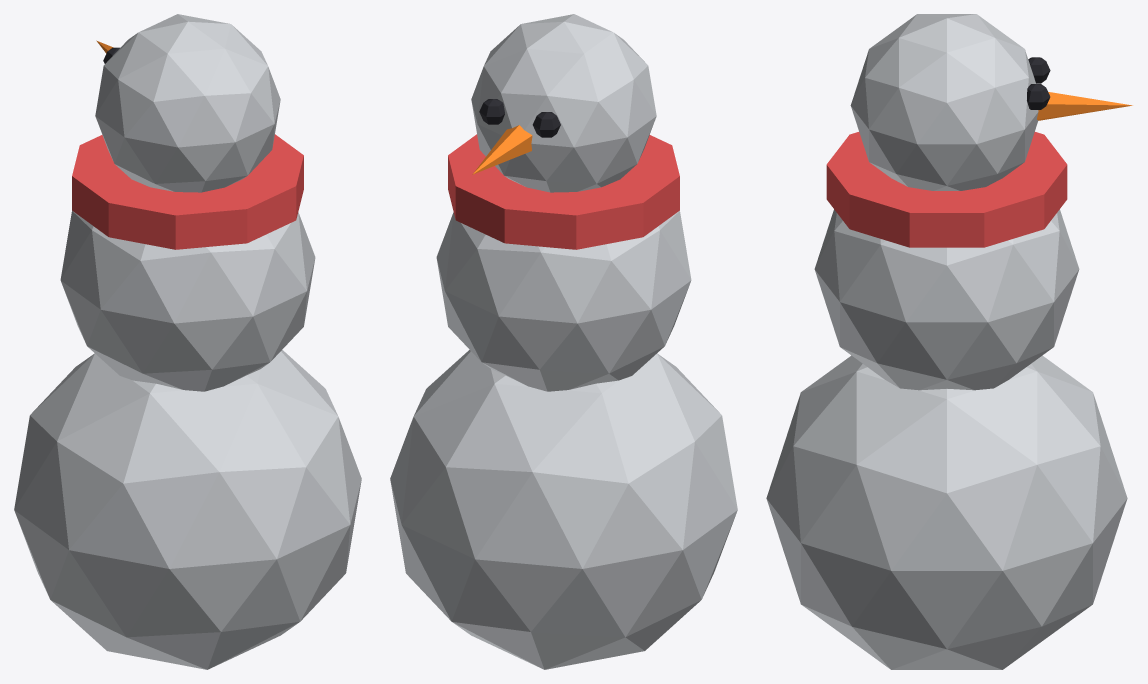
The model's file is Snowman.fbx.
3 renders of one model, left to right at view 1: azimuth 30°, elevation 25°; view 2: azimuth 150°, elevation 25°; view 3: azimuth 270°, elevation 25°, orthographic.
Visible parts, largest first — view 1: Snow, Canvas; view 2: Snow, Canvas, Carrot, Coal; view 3: Snow, Canvas, Carrot, Coal.
Boxes of the visible parts, x1,y1,x2,y2 form: Snow: (14,14,361,669); Canvas: (72,134,303,249); Snow: (390,14,737,669); Canvas: (448,134,679,249); Carrot: (472,125,532,174); Coal: (479,99,560,137); Snow: (766,14,1127,669); Canvas: (826,132,1067,247); Carrot: (1037,92,1132,120); Coal: (1027,57,1050,109).
Size of the model in its own units: 1.43 by 2.95 by 1.52.
